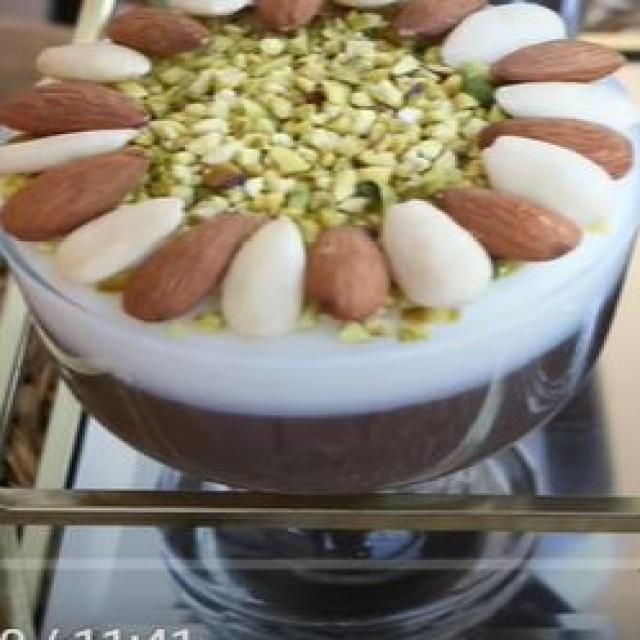asida-zkoukou: (0, 0, 640, 608)
